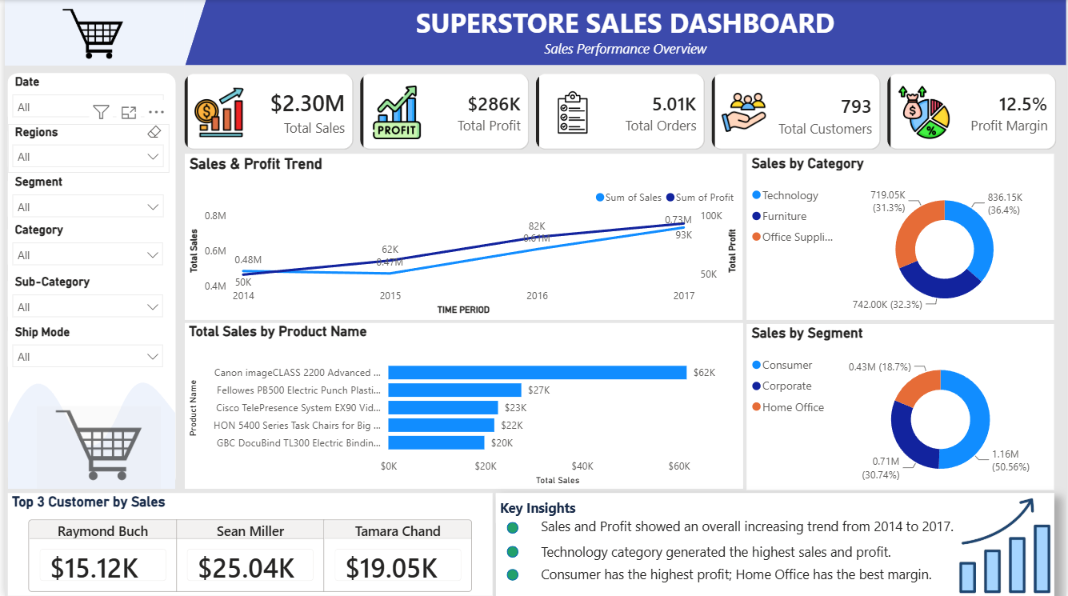

The page's visual inventory and layout, read from the dashboard file:
{"tool":"powerbi","page":{"name":"Executive Overview","canvas":[1280,720],"ordinal":0},"visuals":[{"type":"shape","box":[4,451.5,201.7,138.6],"z":0},{"type":"shape","box":[3.6,88.1,202.7,501.9],"z":1000},{"type":"textbox","box":[217.2,0,1062.9,78.4],"z":2000},{"type":"cardVisual","fields":{"Data":["Sales_Data.Total Sales","Sales_Data.Total Profit","Sales_Data.Total Orders","Sales_Data.Total Customers","Sales_Data.Profit Margin"]},"box":[206.3,78.4,1073.7,112.2],"z":3000},{"type":"donutChart","title":"Sales by Category","fields":{"Y":["Sum(Sales_Data.Sales)"],"Category":["Sales_Data.Category"]},"box":[895,185.2,370,200.3],"z":4000},{"type":"slicer","fields":{"Values":["DateTable.Year Hierarchy.Year","DateTable.Year Hierarchy.Month","DateTable.Year Hierarchy.Day"]},"box":[4.1,88.8,193.5,60],"z":5000},{"type":"slicer","fields":{"Values":["Sales_Data.Regions","Sales_Data.State"]},"box":[4,149,193.5,60],"z":6000},{"type":"lineChart","title":"Sales & Profit Trend ","fields":{"Category":["DateTable.Year Hierarchy.Year","DateTable.Year Hierarchy.Quarter","DateTable.Year Hierarchy.Month"],"Y":["Sum(Sales_Data.Sales)"],"Y2":["Sum(Sales_Data.Profit)"]},"box":[217,185.2,673.2,200],"z":7000},{"type":"donutChart","title":"Sales by Segment","fields":{"Y":["Sum(Sales_Data.Sales)"],"Category":["Sales_Data.Segment"]},"box":[895.2,390.9,370,200.3],"z":8000},{"type":"barChart","fields":{"Category":["Sales_Data.Product Name"],"Y":["Sales_Data.Total Sales"]},"box":[217,390,673.8,200.3],"z":9000},{"type":"slicer","fields":{"Values":["Sales_Data.Category"]},"box":[4,267.8,193,60],"z":10000},{"type":"slicer","fields":{"Values":["Sales_Data.Segment"]},"box":[4,209.6,193.5,60],"z":11000},{"type":"slicer","fields":{"Values":["Sales_Data.Sub-Category"]},"box":[4,330.3,193,60],"z":12000},{"type":"slicer","fields":{"Values":["Sales_Data.Ship Mode"]},"box":[4,390.7,193,60],"z":13000},{"type":"shape","box":[0,0,242.9,79],"z":14000},{"type":"shape","box":[0,0,216.8,79],"z":15000},{"type":"image","box":[61.7,6.9,89.2,71.4],"z":16000},{"type":"image","box":[3.6,390.9,202.7,199.1],"z":17000},{"type":"image","box":[38.4,489.9,149.6,100.2],"z":18000},{"type":"shape","box":[592.4,594.8,673.8,124.9],"z":19000},{"type":"textbox","box":[592.4,596,111.1,34.3],"z":20000},{"type":"shape","box":[605.1,629.8,14,14],"z":21000},{"type":"shape","box":[605.1,658.7,14,14],"z":22000},{"type":"shape","box":[605.1,686.1,14,14],"z":23000},{"type":"textbox","box":[642.2,618.9,516,34.3],"z":24000},{"type":"textbox","box":[642.2,649,505,34.3],"z":25000},{"type":"textbox","box":[642,676.5,505,34.3],"z":26000},{"type":"image","box":[1147.2,595.5,118,124.9],"z":27000},{"type":"cardVisual","title":"Top 3 Customer by Sales","fields":{"Rows":["Sales_Data.Customer Name"],"Data":["Sales_Data.Total Sales"]},"box":[3.6,594.8,585.1,124.3],"z":28000}]}

Visuals, with their boxes in screenshot pixels (x1, y1, x2, y2), scaled from the page's 1280x720 canvas onto the 1068x596 screenshot:
shape: x1=3 y1=374 x2=172 y2=488
shape: x1=3 y1=73 x2=172 y2=488
textbox: x1=181 y1=0 x2=1067 y2=65
cardVisual - Sales_Data.Total Sales x Sales_Data.Total Profit: x1=172 y1=65 x2=1067 y2=158
"Sales by Category" donutChart: x1=747 y1=153 x2=1055 y2=319
slicer - DateTable.Year Hierarchy.Year x DateTable.Year Hierarchy.Month: x1=3 y1=74 x2=165 y2=123
slicer - Sales_Data.Regions x Sales_Data.State: x1=3 y1=123 x2=165 y2=173
"Sales & Profit Trend " lineChart: x1=181 y1=153 x2=743 y2=319
"Sales by Segment" donutChart: x1=747 y1=324 x2=1056 y2=489
barChart - Sales_Data.Product Name x Sales_Data.Total Sales: x1=181 y1=323 x2=743 y2=489
slicer - Sales_Data.Category: x1=3 y1=222 x2=164 y2=271
slicer - Sales_Data.Segment: x1=3 y1=174 x2=165 y2=223
slicer - Sales_Data.Sub-Category: x1=3 y1=273 x2=164 y2=323
slicer - Sales_Data.Ship Mode: x1=3 y1=323 x2=164 y2=373
shape: x1=0 y1=0 x2=203 y2=65
shape: x1=0 y1=0 x2=181 y2=65
image: x1=51 y1=6 x2=126 y2=65
image: x1=3 y1=324 x2=172 y2=488
image: x1=32 y1=406 x2=157 y2=488
shape: x1=494 y1=492 x2=1056 y2=595
textbox: x1=494 y1=493 x2=587 y2=522
shape: x1=505 y1=521 x2=517 y2=533
shape: x1=505 y1=545 x2=517 y2=557
shape: x1=505 y1=568 x2=517 y2=580
textbox: x1=536 y1=512 x2=966 y2=541
textbox: x1=536 y1=537 x2=957 y2=566
textbox: x1=536 y1=560 x2=957 y2=588
image: x1=957 y1=493 x2=1056 y2=595
"Top 3 Customer by Sales" cardVisual: x1=3 y1=492 x2=491 y2=595
